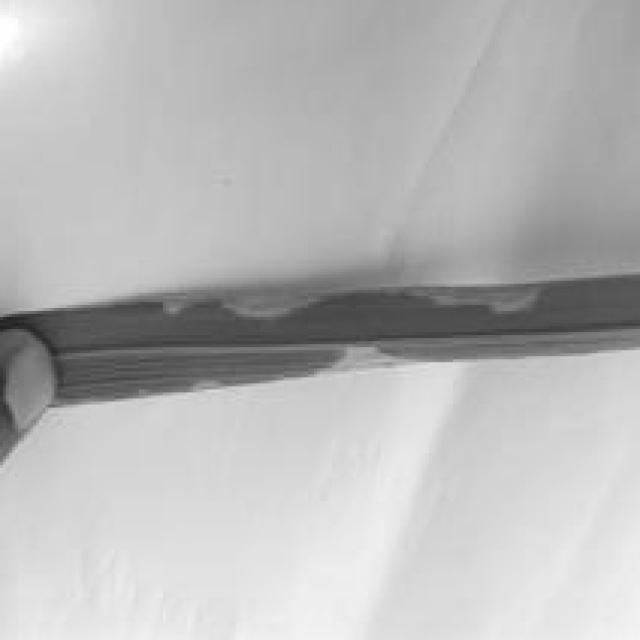Bacterial_Leaf_Blight: (111, 250, 588, 380)
